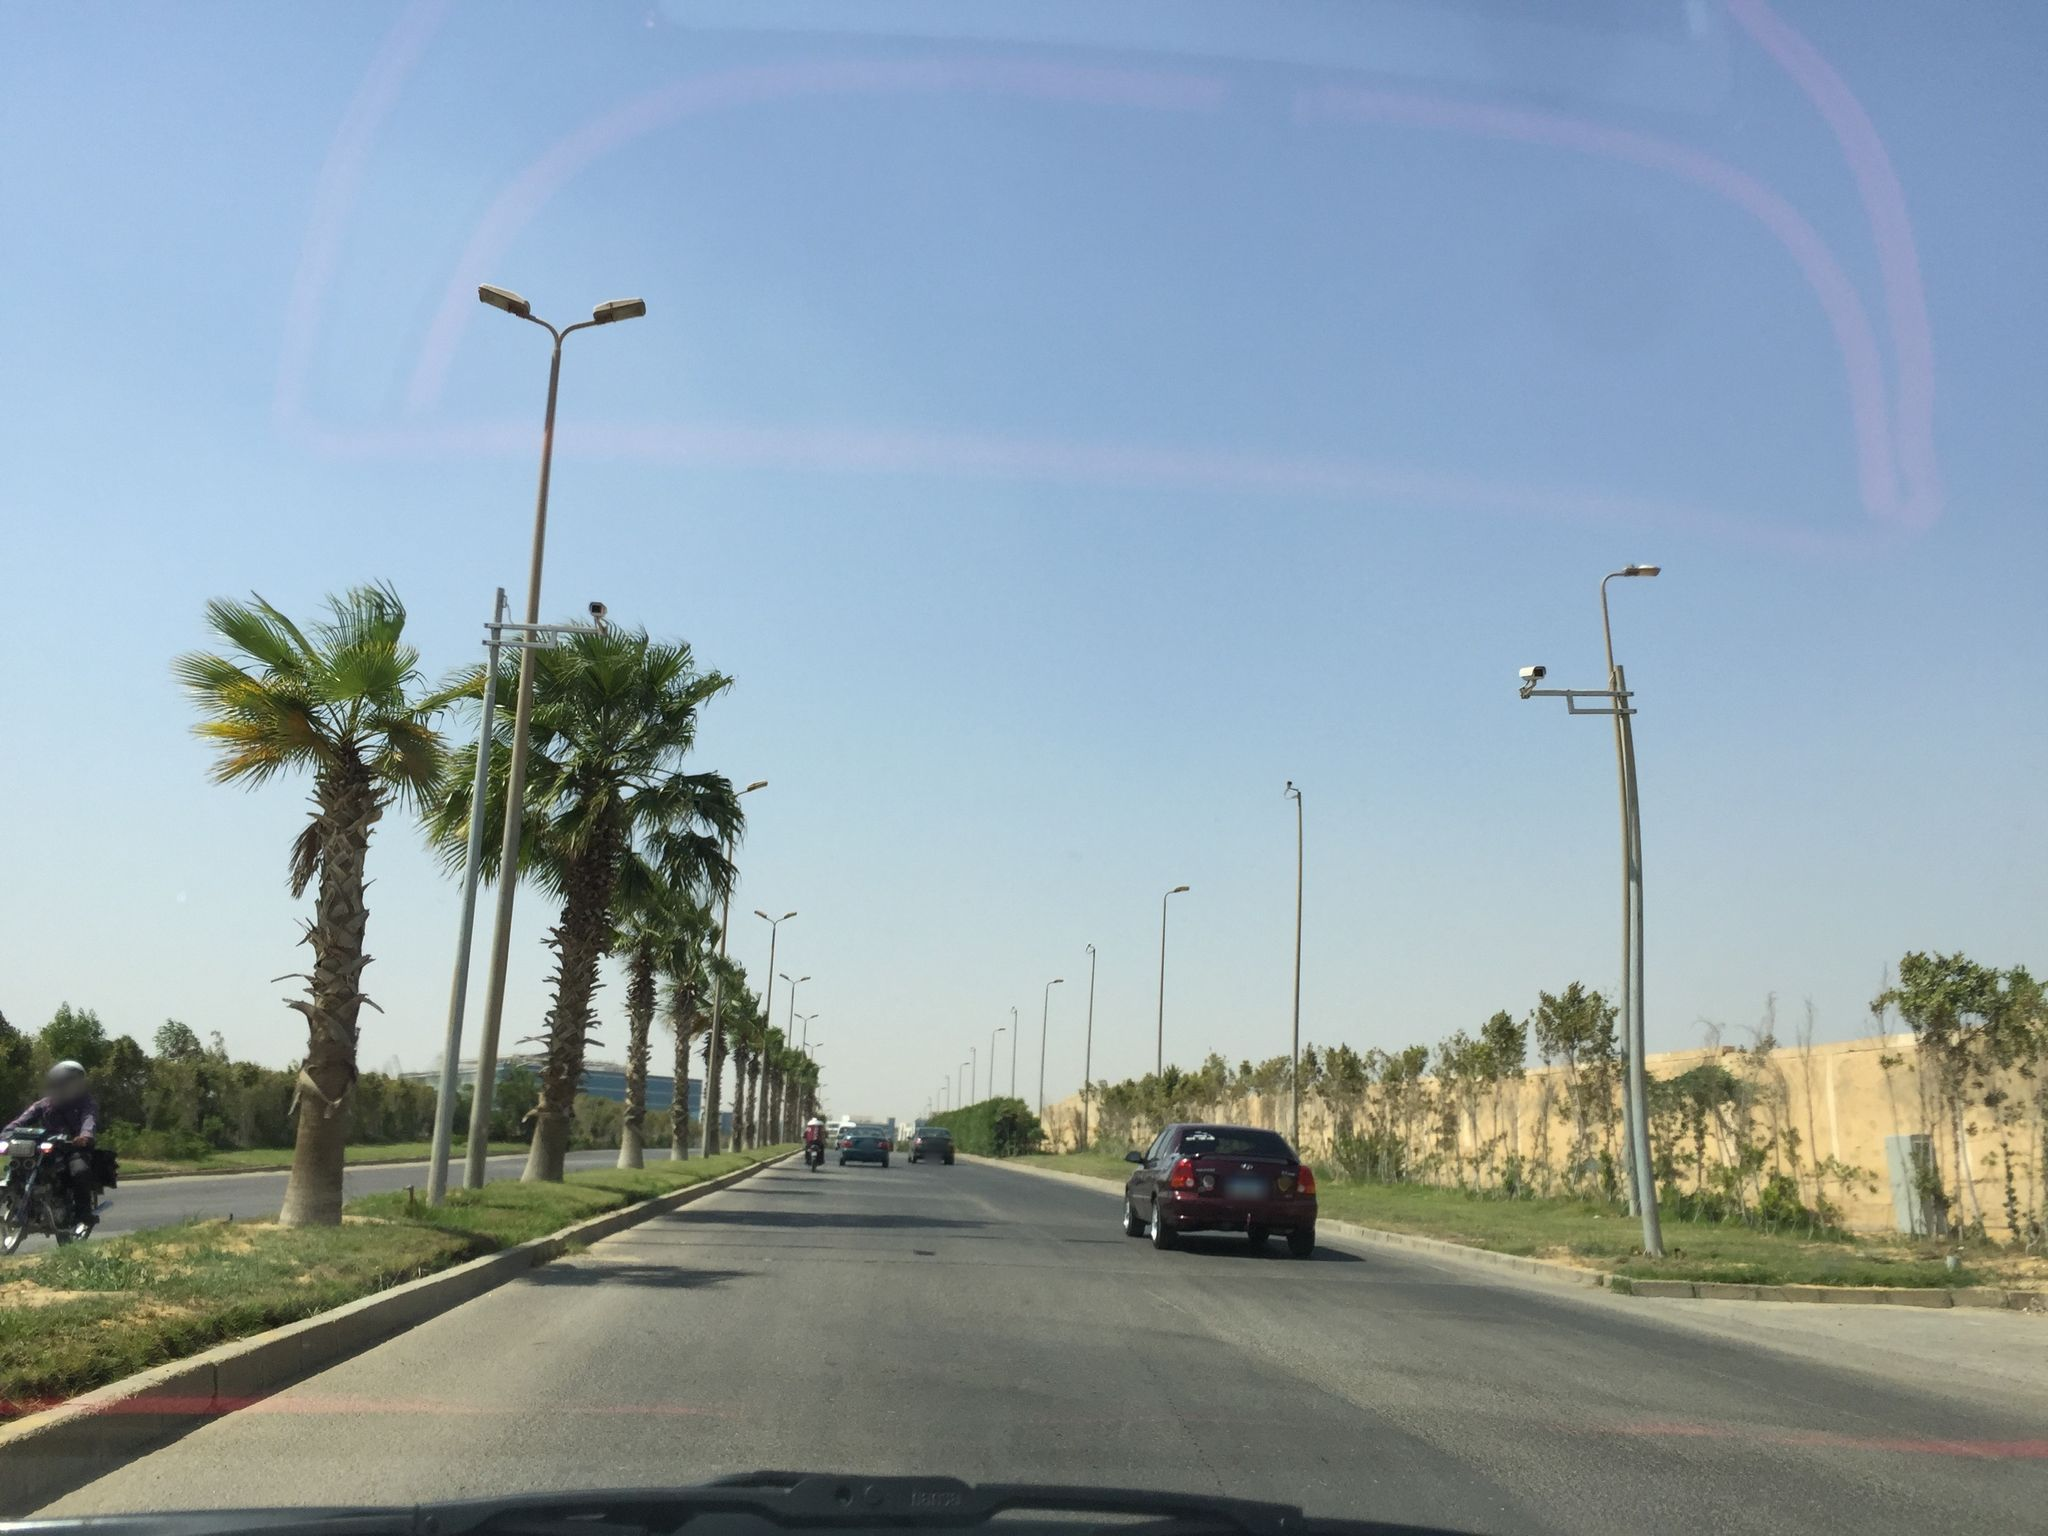car: (1121, 1121, 1319, 1255), (839, 1125, 892, 1167), (905, 1126, 956, 1163)
motorcycle: (0, 1125, 118, 1255), (801, 1133, 827, 1171)
